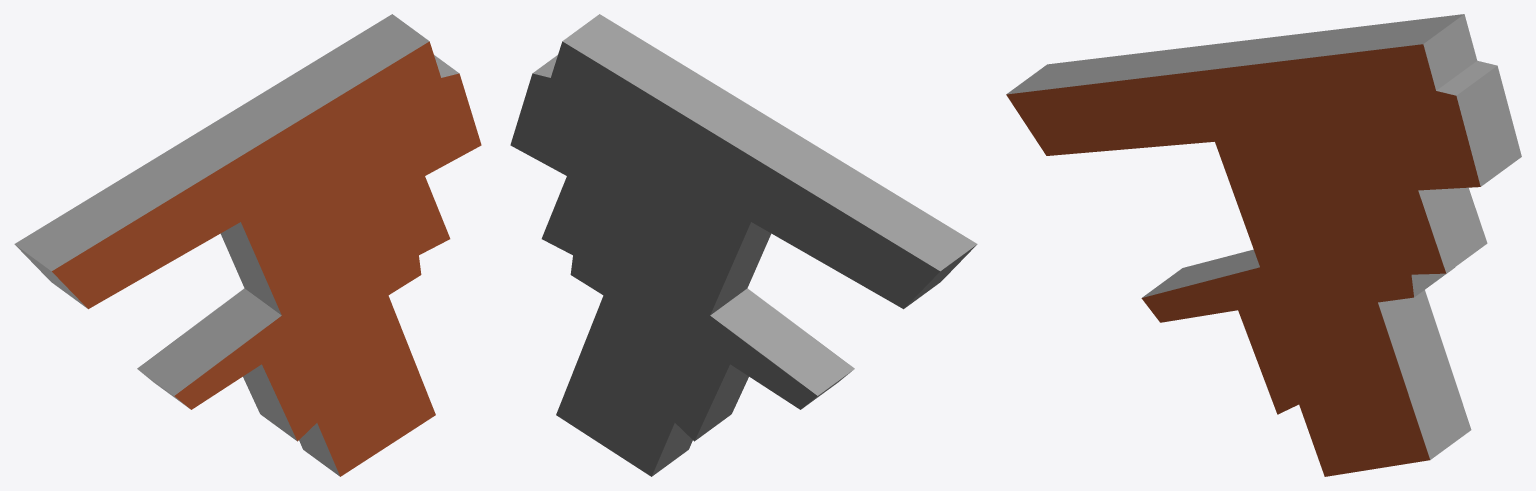
File: construction_3276_assumed_A_Casa_h6m.obj
3 renders of one model, left to right at view 1: azimuth 30°, elevation 25°; view 2: azimuth 150°, elevation 25°; view 3: azimuth 330°, elevation 25°, orthographic. The views are drawn at different scales.
Visible parts, largest first — view 1: construction_3276_assumed_A_Casa; view 2: construction_3276_assumed_A_Casa; view 3: construction_3276_assumed_A_Casa.
Boxes of the visible parts, bbox=[...] form: construction_3276_assumed_A_Casa: bbox=[14, 14, 481, 476]; construction_3276_assumed_A_Casa: bbox=[510, 14, 977, 476]; construction_3276_assumed_A_Casa: bbox=[1006, 14, 1521, 476].
Bounding box in the file's own units: 39.91 × 36.71 × 6.
